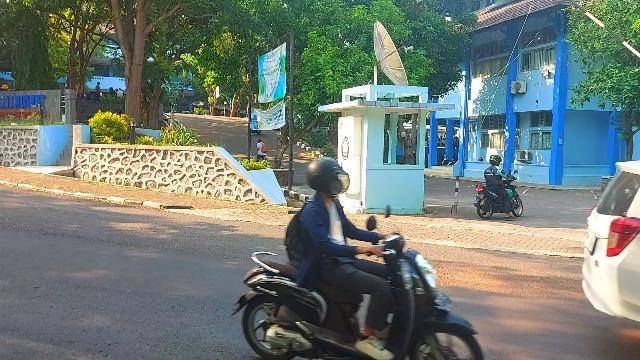helm: (308, 160, 350, 197), (491, 156, 502, 166)
motor: (232, 207, 484, 360), (475, 172, 524, 221)
